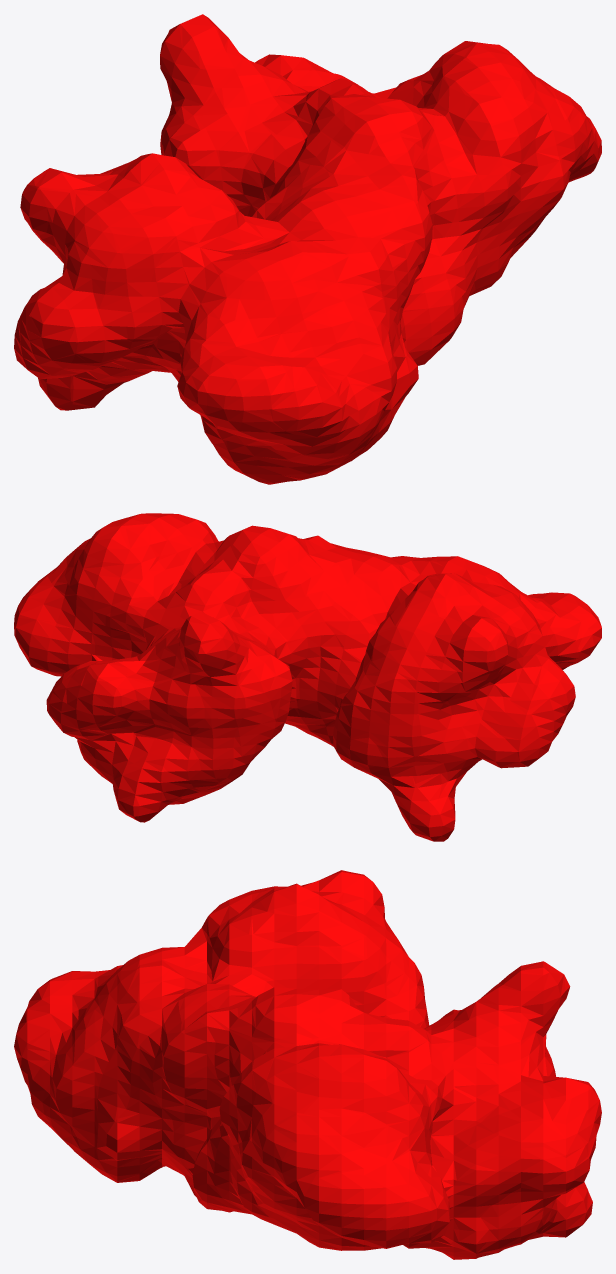
File: era_coarse.dae
The picture shows the model from 3 angles, top to bottom: view 1: azimuth 30°, elevation 25°; view 2: azimuth 150°, elevation 25°; view 3: azimuth 270°, elevation 25°; orthographic projection. The views are drawn at different scales.
Parts seen in each view (by area): view 1: era; view 2: era; view 3: era.
Boxes of the visible parts, box(x1,y1,x2,y2) form: era: box(14, 14, 601, 484); era: box(14, 513, 601, 841); era: box(14, 870, 601, 1259).
Bounding box in the file's own units: 104 × 45.88 × 91.24.
